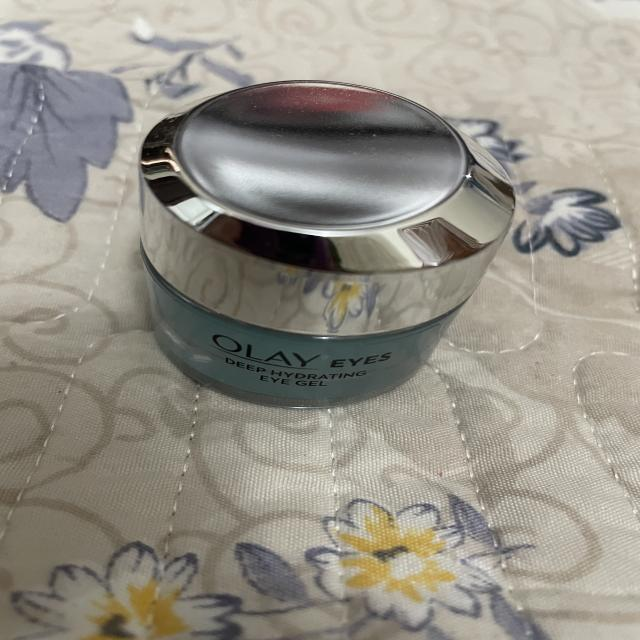gel: (109, 66, 547, 418)
